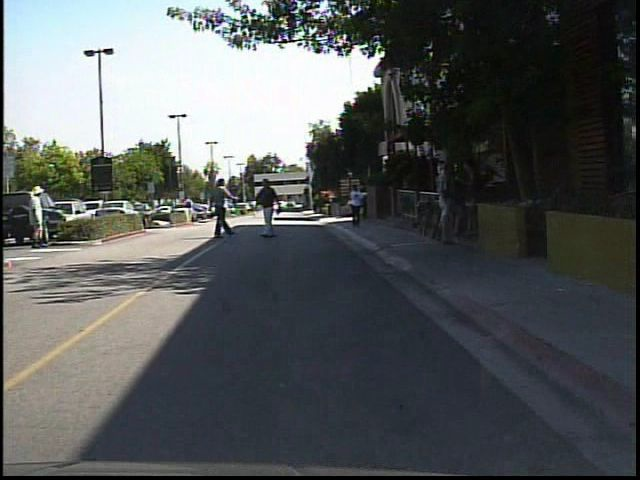person: (429, 151, 465, 250), (459, 160, 485, 247), (207, 173, 239, 243), (253, 178, 286, 241), (24, 181, 52, 250), (344, 181, 367, 233), (181, 193, 197, 223), (249, 195, 264, 219)
